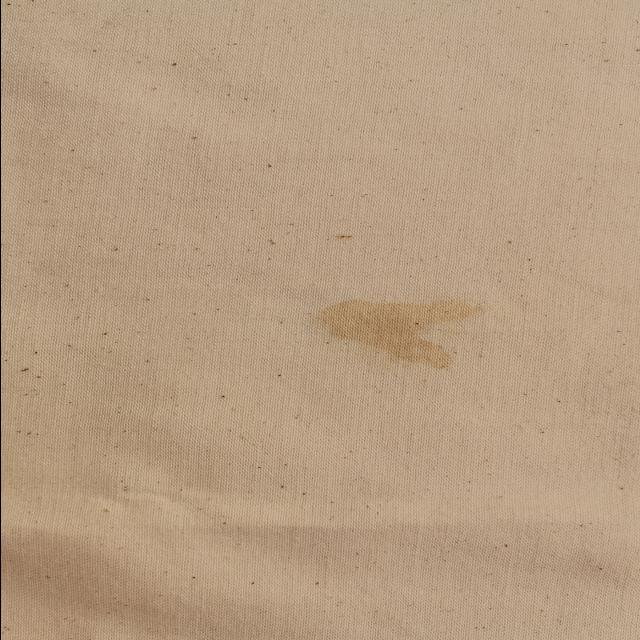taaaches: (302, 288, 502, 372)
